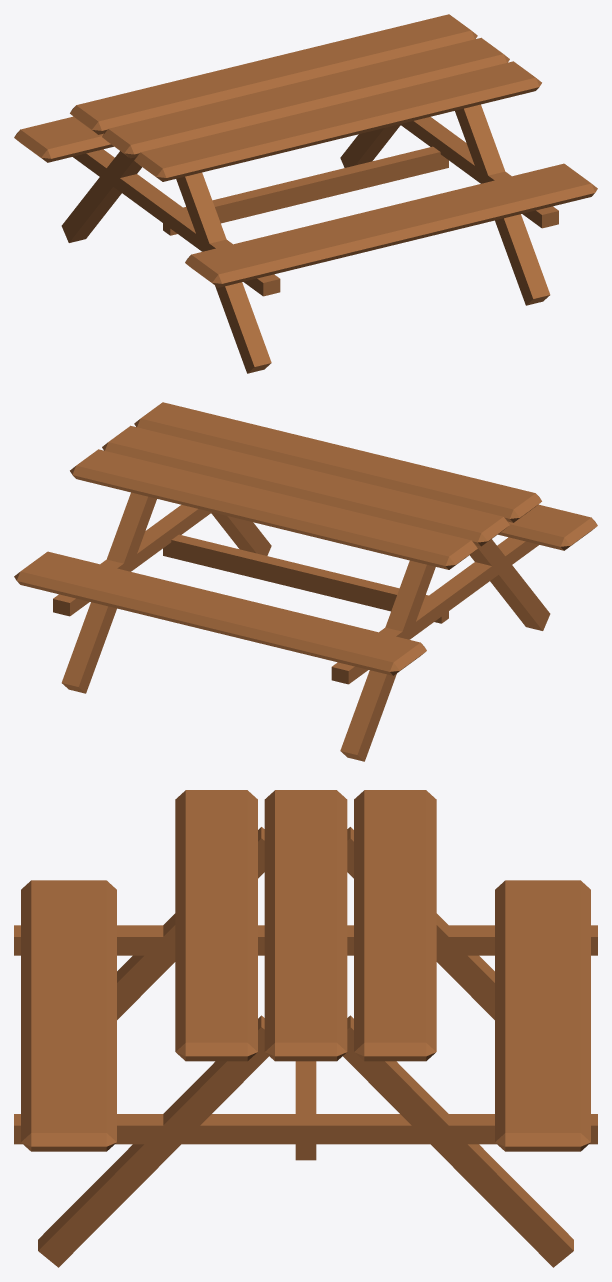
The model's file is picnic-table.glb.
3 renders of one model, top to bottom at view 1: azimuth 30°, elevation 25°; view 2: azimuth 150°, elevation 25°; view 3: azimuth 270°, elevation 25°, orthographic. The views are drawn at different scales.
Visible parts, largest first — view 1: picnic-table; view 2: picnic-table; view 3: picnic-table.
Part boxes in pixels (<box>): picnic-table: <box>14,14,597,373</box>; picnic-table: <box>14,402,597,761</box>; picnic-table: <box>14,790,597,1267</box>.
Size of the model in its own units: 1.8 by 0.8068 by 1.7.
